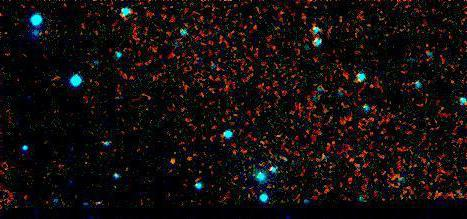star: (155, 148, 185, 178)
